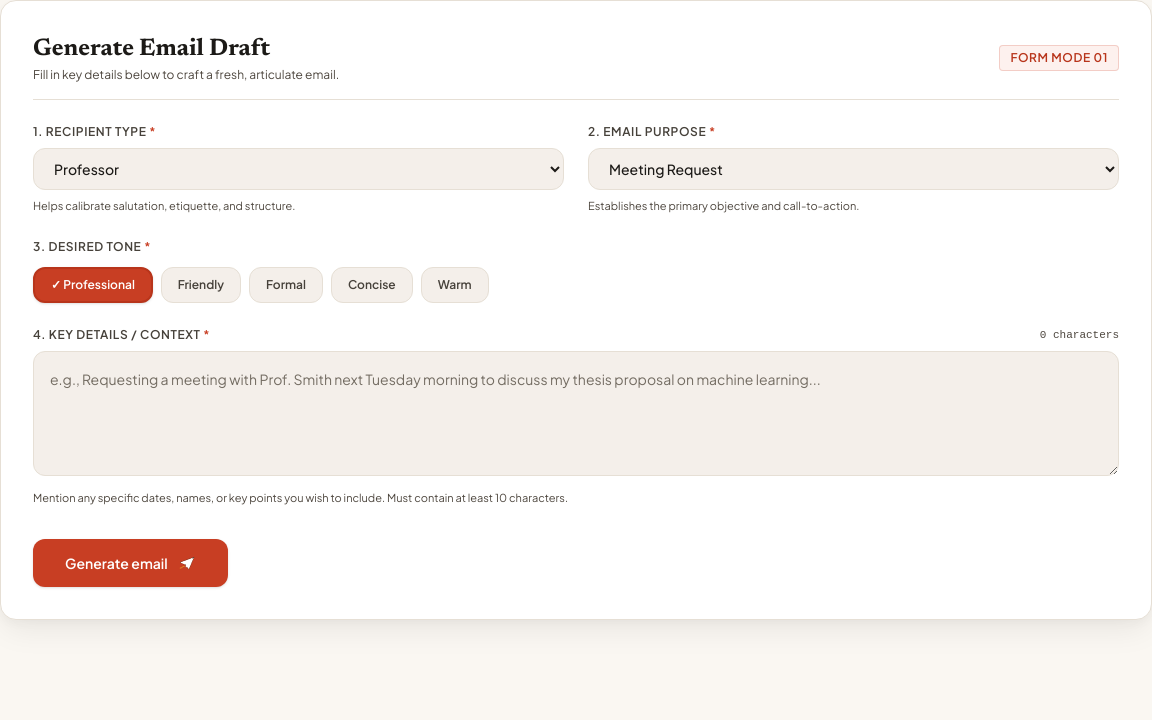
Scenario: UI Components Tests › EmailForm › displays validation error when submitting context shorter than 10 chars
The width and height of the screenshot is (1152, 720).
Replace the text in the text box labelled "4. Key Details / Context *" with "Short" at (576, 414), box [33, 351, 1119, 476]
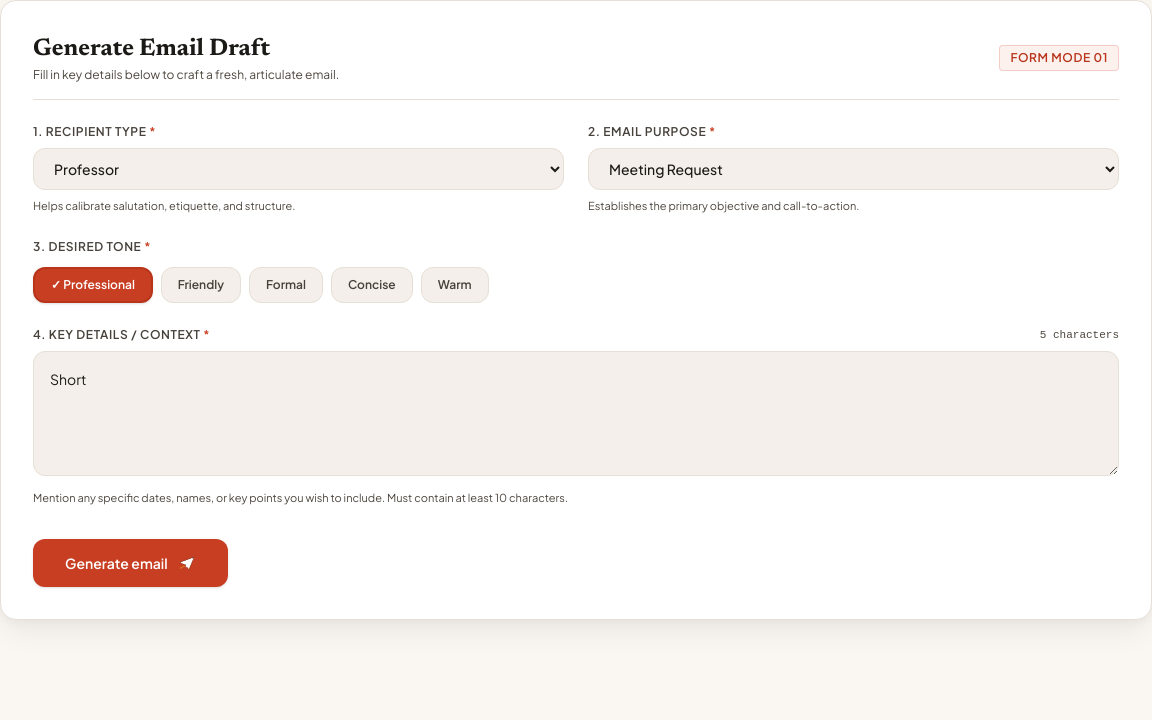
Click the button "Generate email" at (130, 562), box [33, 538, 228, 586]
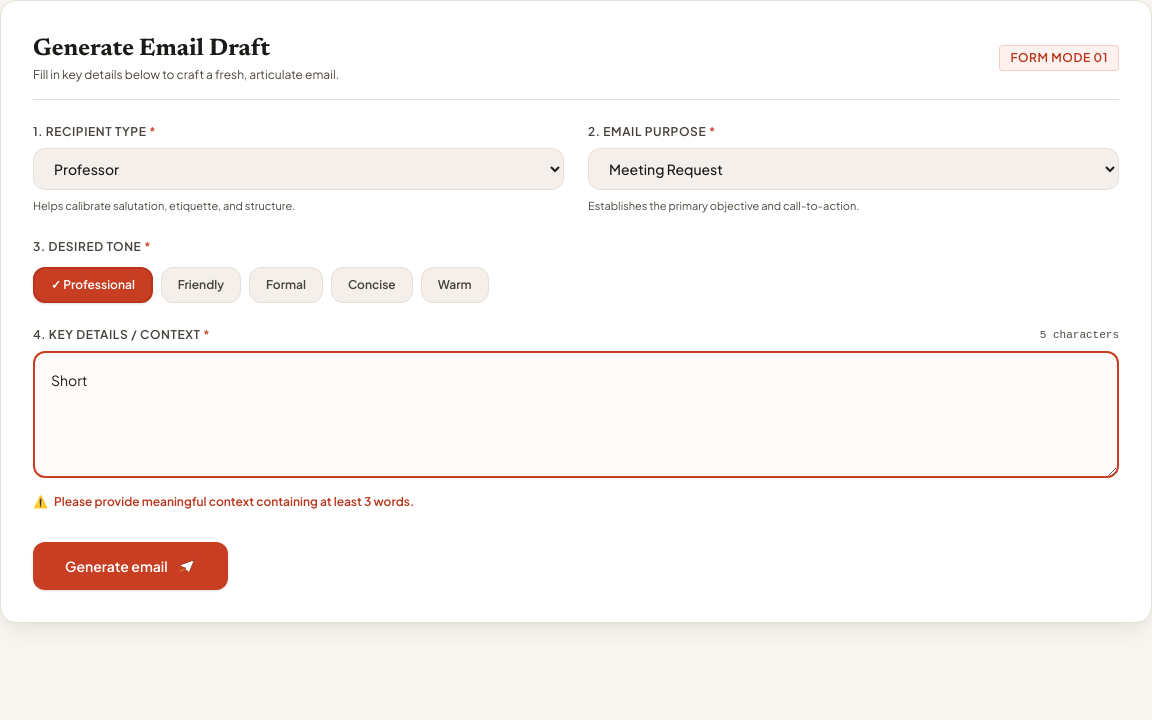
Check: the message "⚠️ Please provide meaningful context containing at least 3 words." is shown, box [33, 494, 414, 509]
